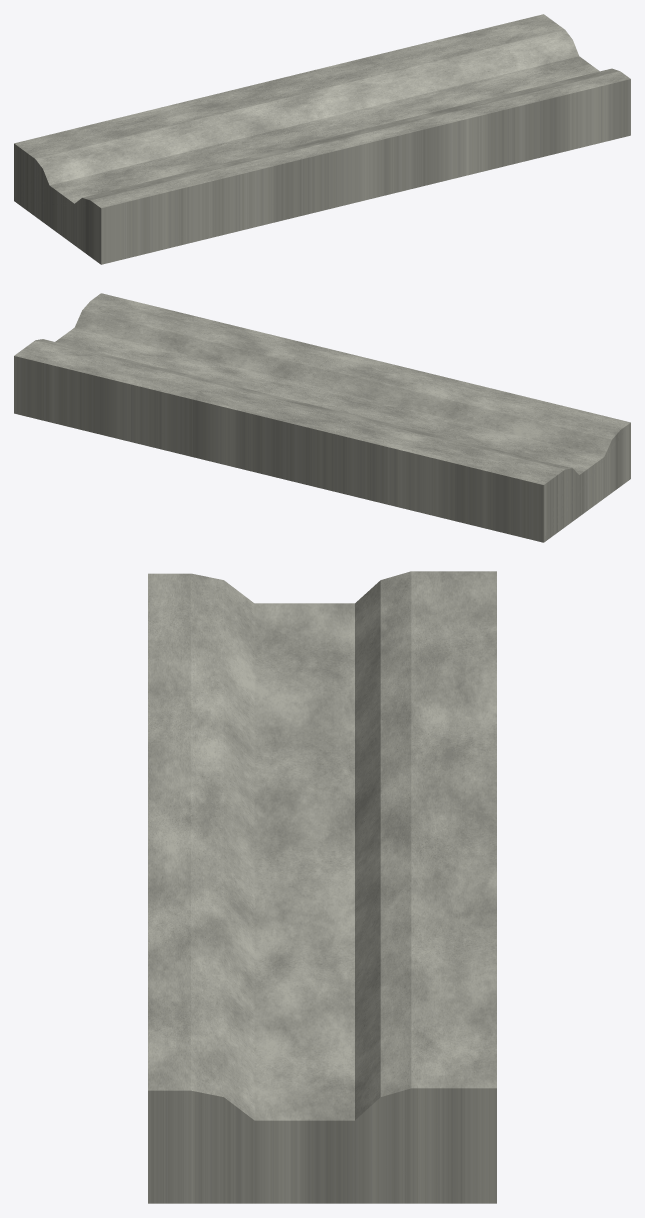
Rendered from PZ_Drain_1m.glb.
3 renders of one model, top to bottom at view 1: azimuth 30°, elevation 25°; view 2: azimuth 150°, elevation 25°; view 3: azimuth 270°, elevation 25°, orthographic. The views are drawn at different scales.
Parts seen in each view (by area): view 1: PZ_Drain_1m__Recessed_Concrete_Grain; view 2: PZ_Drain_1m__Recessed_Concrete_Grain; view 3: PZ_Drain_1m__Recessed_Concrete_Grain.
Part boxes in pixels (x1=…): PZ_Drain_1m__Recessed_Concrete_Grain: x1=14, y1=14, x2=630, y2=264; PZ_Drain_1m__Recessed_Concrete_Grain: x1=14, y1=293, x2=630, y2=542; PZ_Drain_1m__Recessed_Concrete_Grain: x1=148, y1=571, x2=496, y2=1203.
Bounding box in the file's own units: 1 × 0.104 × 0.285.
1 material, 1 textured.
